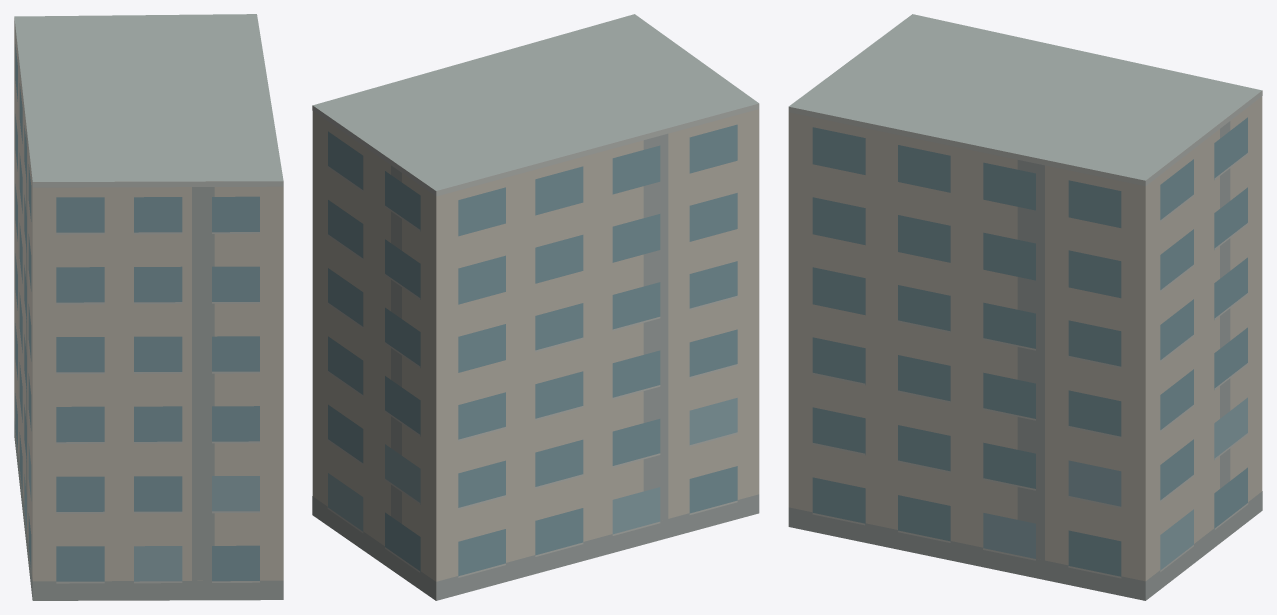
File: survey-upis-32743242.glb
3 renders of one model, left to right at view 1: azimuth 30°, elevation 25°; view 2: azimuth 150°, elevation 25°; view 3: azimuth 270°, elevation 25°, orthographic. The views are drawn at different scales.
Parts seen in each view (by area): view 1: survey-upis-32743242.tmp; view 2: survey-upis-32743242.tmp; view 3: survey-upis-32743242.tmp.
Part boxes in pixels (x1,y1,x2,y2): survey-upis-32743242.tmp: [14, 14, 283, 600]; survey-upis-32743242.tmp: [312, 14, 759, 600]; survey-upis-32743242.tmp: [788, 14, 1262, 600].
Bounding box in the file's own units: 15.58 × 18.3 × 18.71.
